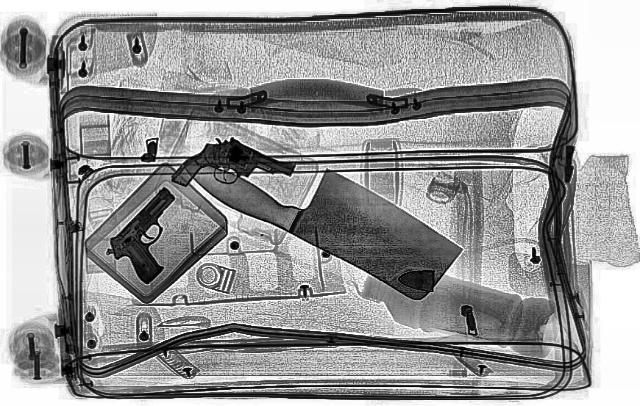Gun: (79, 186, 231, 284), (160, 129, 304, 211)
Knife: (174, 121, 492, 311)
